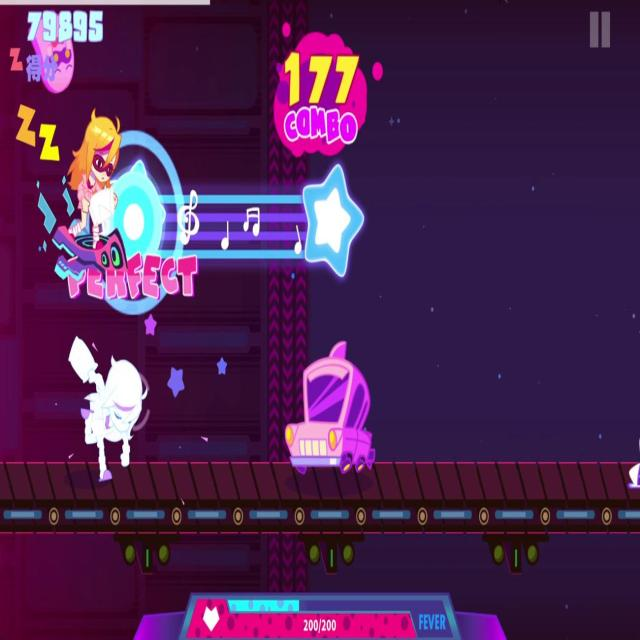che: (285, 344, 379, 474)
gui: (24, 11, 79, 89)
hold: (107, 162, 368, 278)
